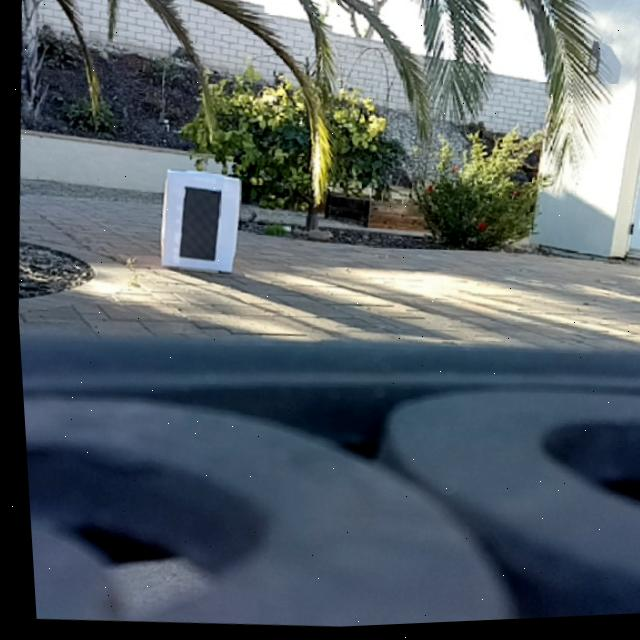led: (170, 183, 223, 265)
